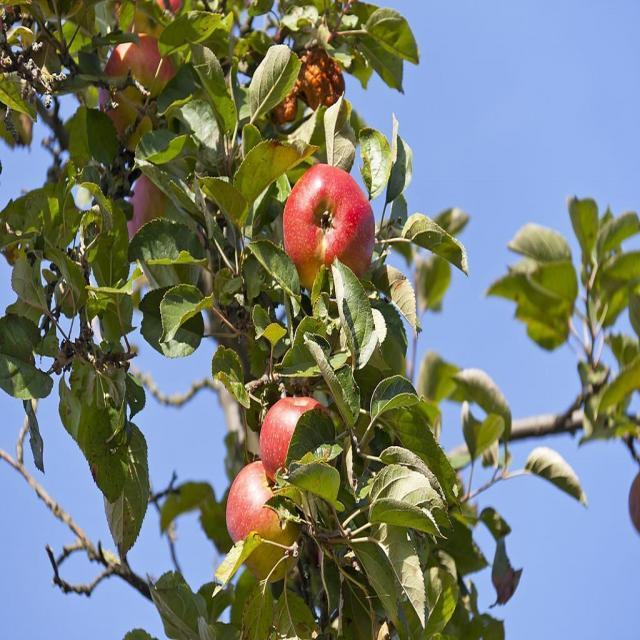Red Apple: (282, 163, 372, 294), (232, 454, 305, 570), (103, 39, 176, 147), (262, 395, 337, 486), (127, 175, 177, 273), (297, 53, 346, 112), (121, 1, 180, 39), (626, 472, 640, 537), (272, 95, 298, 124)
